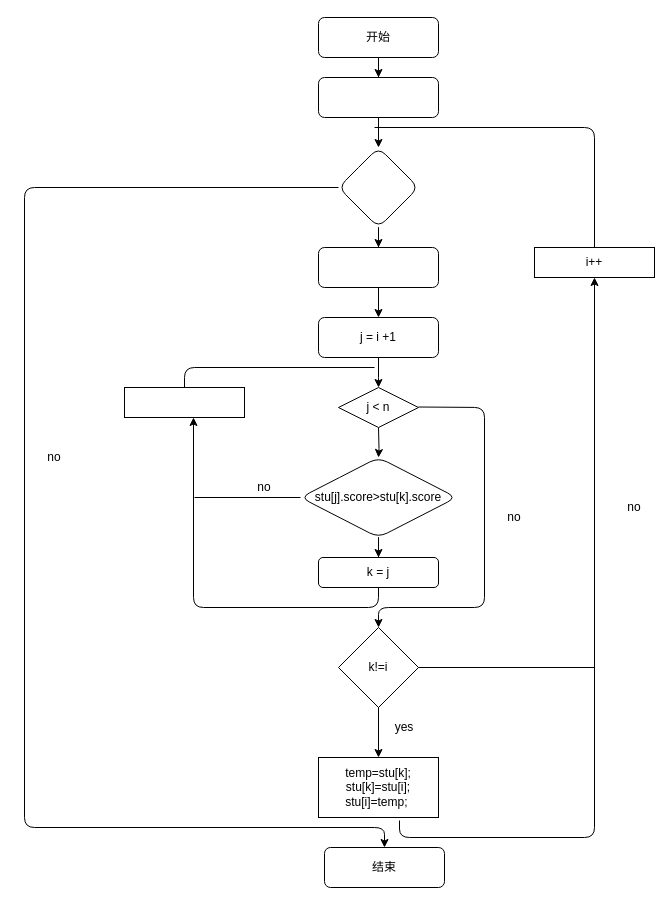
This 672x905 diagram has some shape labels left out. The centre of each missing label's shape, as x and y in pixels:
"i < n-1" goes at (378,187).
"i=0" goes at (378,97).
"j++" goes at (184,402).
"k=i" goes at (378,267).
